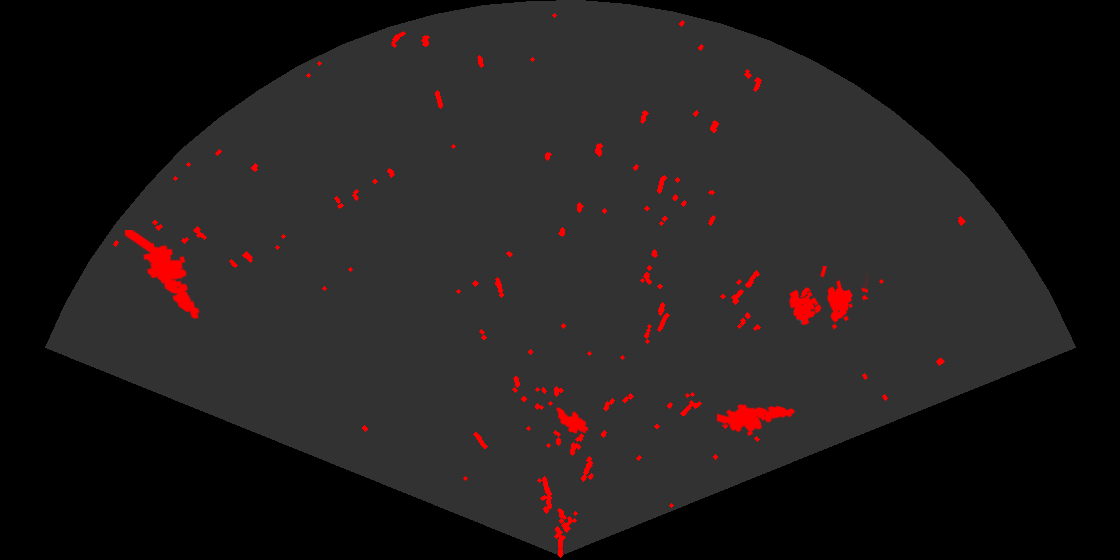AUV: (555, 406, 590, 435)
cage: (787, 266, 868, 331)
frogman: (125, 230, 201, 321), (717, 402, 797, 438)
